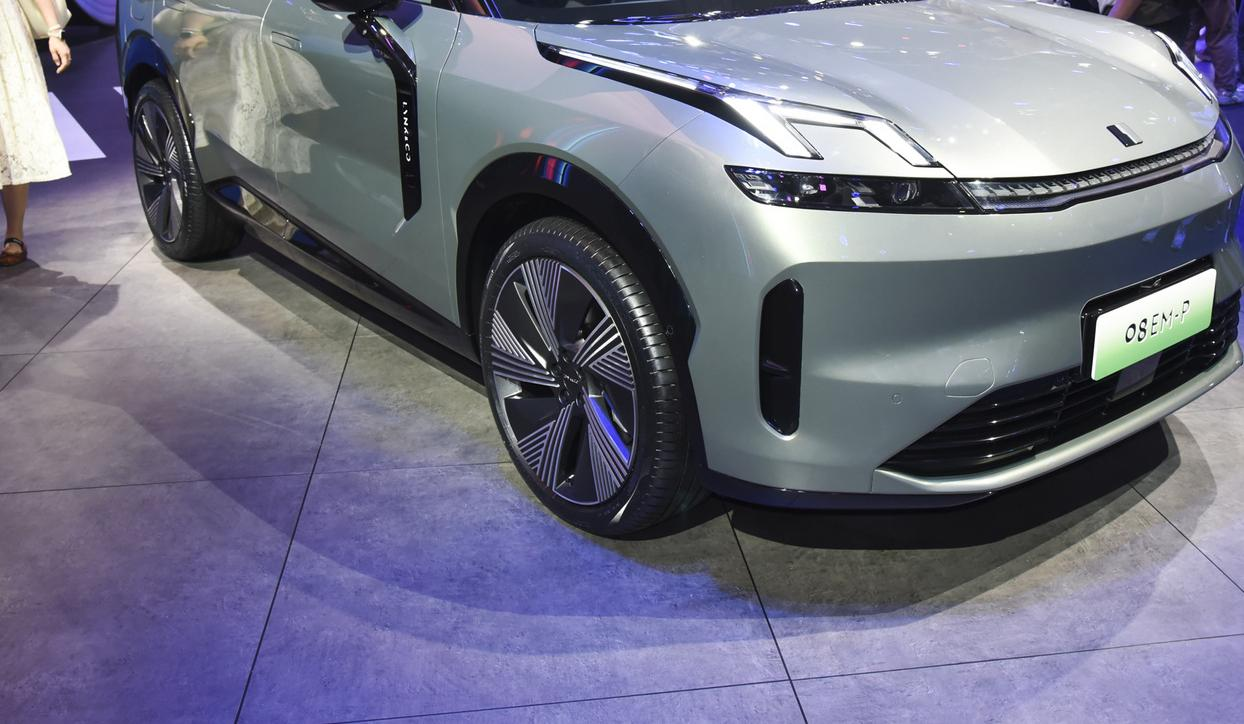LINK&CO: (1107, 123, 1143, 147)
